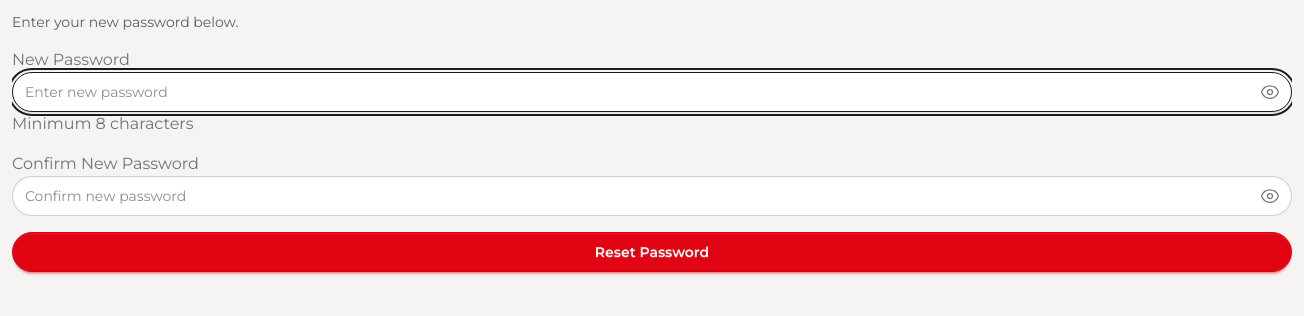
ResetPasswordForm › should show validation error for empty confirm password
Type "newpassword123" into the password field with placeholder "Enter new password" at coordinates (652, 92), box left=12, top=72, right=1292, bottom=112
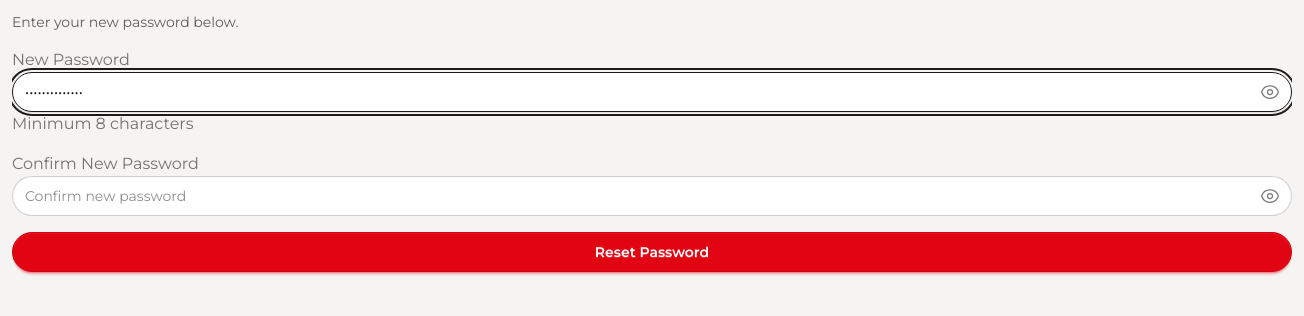
Click the button "Reset Password" at coordinates (652, 252), box left=12, top=232, right=1292, bottom=272
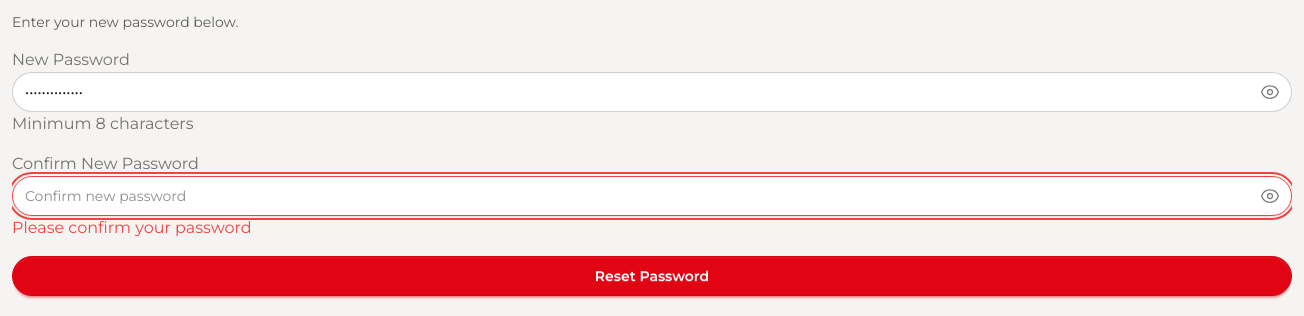
Result: the text "Please confirm your password" is shown at left=12, top=216, right=252, bottom=240
